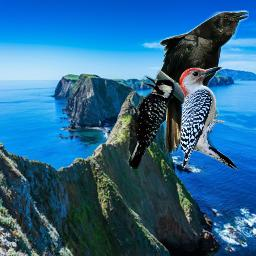Crow: (141, 10, 249, 155)
Woodpecker: (174, 62, 244, 178), (122, 75, 177, 169)
